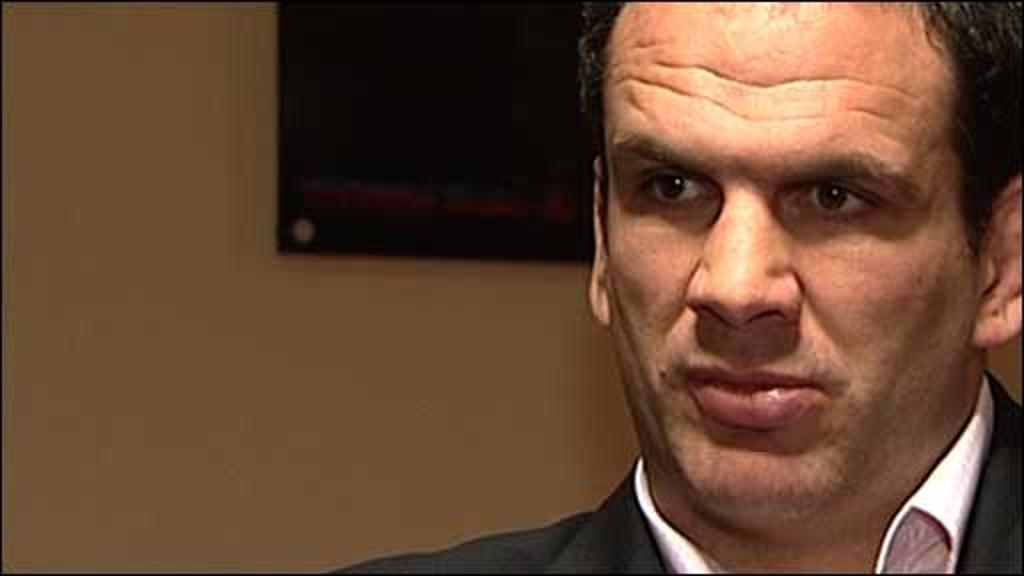face: (607, 7, 973, 507)
